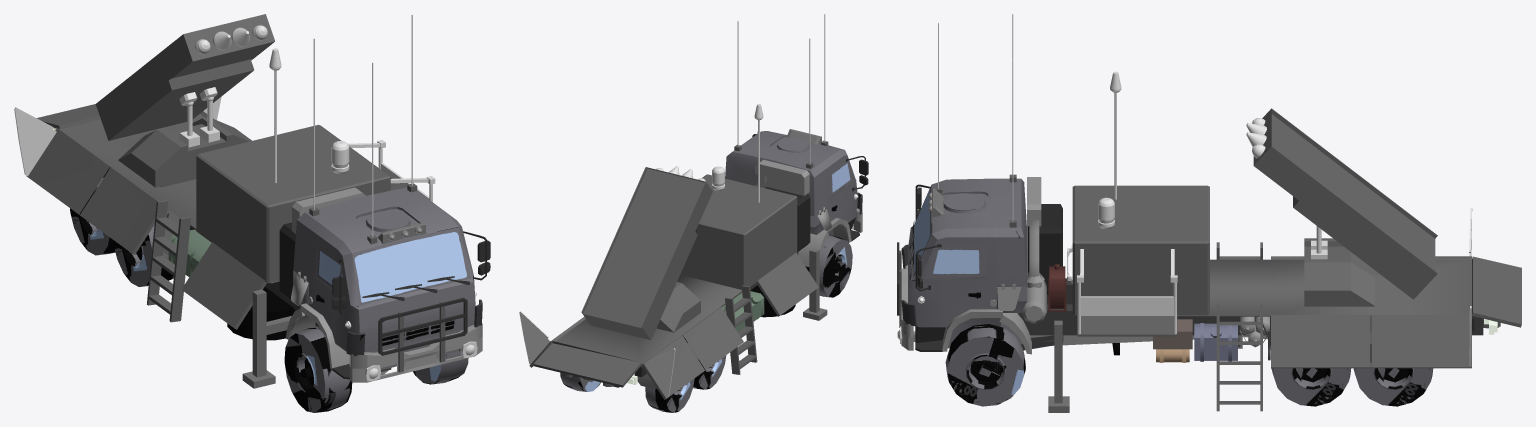
File: only-antenna-deployed.fbx
The picture shows the model from 3 angles, left to right: view 1: azimuth 30°, elevation 25°; view 2: azimuth 150°, elevation 25°; view 3: azimuth 270°, elevation 25°; orthographic projection. The views are drawn at different scales.
Visible parts, largest first — view 1: Куб.131, Куб.136, Cube, Cube.002, Цилиндр.051, Cube.001, Cube.008, Куб.096, Cube.016, Cube.011, Cube.007, Цилиндр.053 (+17 smaller); view 2: Cube.002, Куб.136, Cube, Куб.131, Цилиндр.051, Cube.008, Цилиндр.059, Цилиндр.001, Cube.001, Cube.015, Cube.011, Cube.010 (+6 smaller); view 3: Куб.136, Cube, Куб.131, Cube.002, Цилиндр.051, Cube.001, Цилиндр.001, Цилиндр.053, Куб.118, Цилиндр.059, Cube.018, Cube.015 (+12 smaller).
Part boxes in pixels (<box>): Куб.131: <box>293,187,482,369</box>; Куб.136: <box>26,104,279,329</box>; Cube: <box>196,124,390,283</box>; Cube.002: <box>95,14,275,140</box>; Цилиндр.051: <box>284,327,468,412</box>; Cube.001: <box>118,117,251,187</box>; Cube.008: <box>147,200,190,322</box>; Куб.096: <box>349,323,482,382</box>; Cube.016: <box>242,289,291,388</box>; Cube.011: <box>14,107,56,175</box>; Cube.007: <box>378,297,467,355</box>; Цилиндр.053: <box>113,225,173,286</box>; Cube.002: <box>581,167,712,339</box>; Куб.136: <box>529,252,818,399</box>; Cube: <box>680,174,797,289</box>; Куб.131: <box>725,131,862,252</box>; Цилиндр.051: <box>805,235,852,297</box>; Cube.008: <box>725,285,757,374</box>; Цилиндр.059: <box>754,159,809,195</box>; Цилиндр.001: <box>560,372,694,412</box>; Cube.001: <box>656,282,700,332</box>; Cube.015: <box>765,187,810,251</box>; Cube.011: <box>645,348,675,397</box>; Cube.010: <box>519,311,550,364</box>; Куб.136: <box>1077,256,1521,368</box>; Cube: <box>1072,185,1209,315</box>; Куб.131: <box>901,178,1026,348</box>; Cube.002: <box>1253,108,1437,299</box>; Цилиндр.051: <box>945,324,1025,406</box>; Cube.001: <box>1304,238,1374,306</box>; Цилиндр.001: <box>1353,331,1433,406</box>; Цилиндр.053: <box>1271,368,1351,406</box>; Куб.118: <box>1018,278,1483,350</box>; Цилиндр.059: <box>1021,177,1046,323</box>; Cube.018: <box>1080,296,1174,315</box>; Cube.015: <box>1027,204,1062,294</box>.
Size of the model in its own units: 750 by 1202 by 2012.
66 materials, 2 textured.
